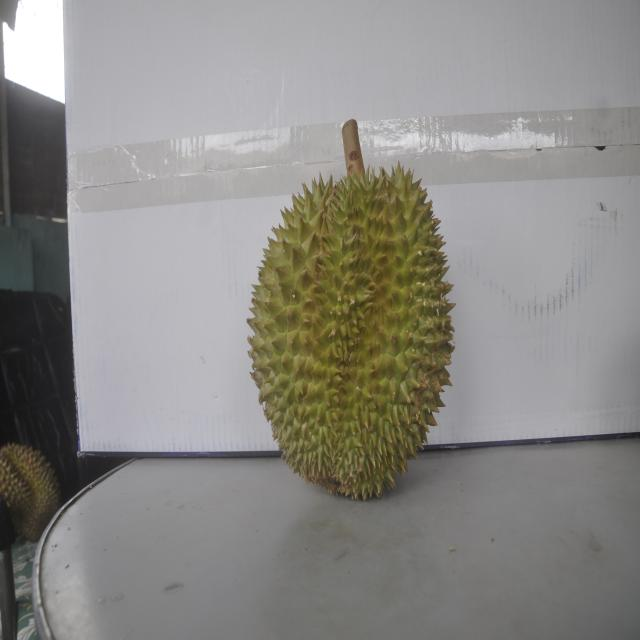mature: (249, 143, 448, 501), (1, 441, 62, 540)
